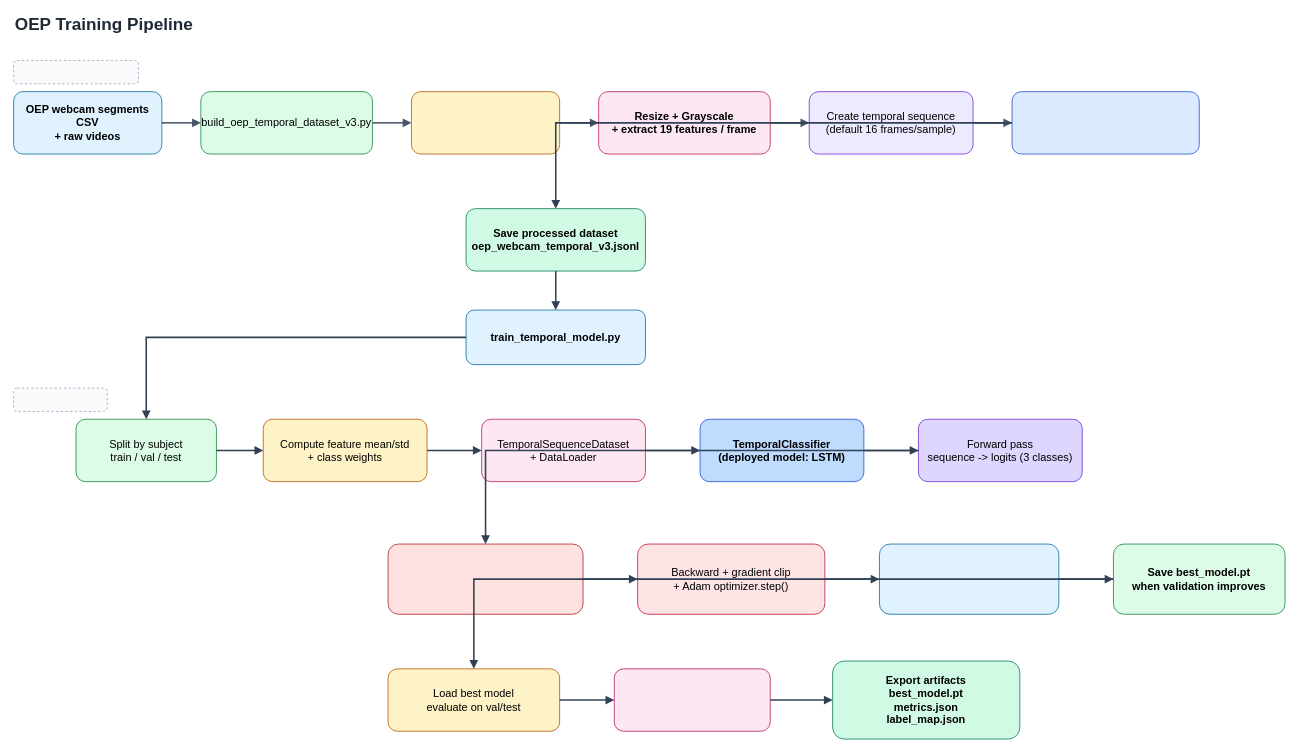
The diagram is 1299 pixels wide and 753 high, and some of its shapes have lost their labels. Each missing label, with the box of its shape:
Dataset building stage: (13, 60, 138, 84)
Remap labels to 3 classes normal / suspicious_action / device: (1011, 91, 1199, 154)
Sample frames from labeled time segments: (411, 91, 560, 154)
Training stage: (13, 387, 107, 411)
Tune non-normal threshold: (613, 668, 770, 731)
Validation each epoch track val loss / val accuracy: (879, 543, 1059, 614)
Weighted CrossEntropyLoss (compare logits with true label): (387, 543, 583, 614)
